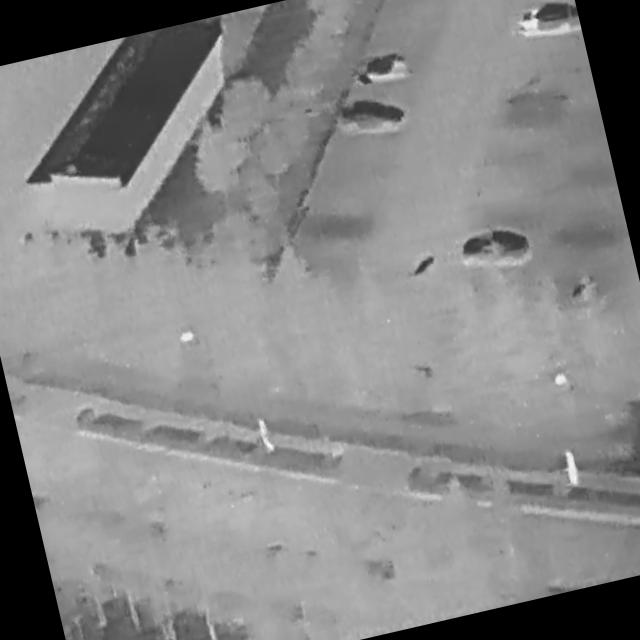person: (560, 447, 585, 492), (255, 415, 279, 457)
